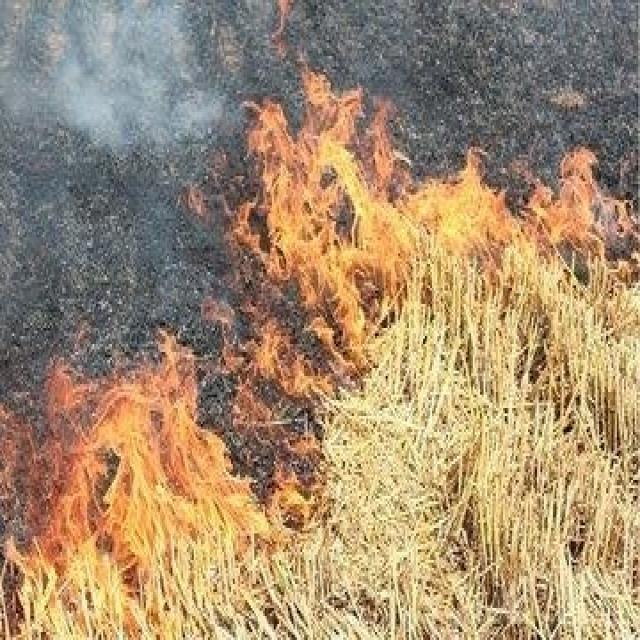Fire: (2, 69, 634, 568)
Smoke: (2, 2, 244, 158)
